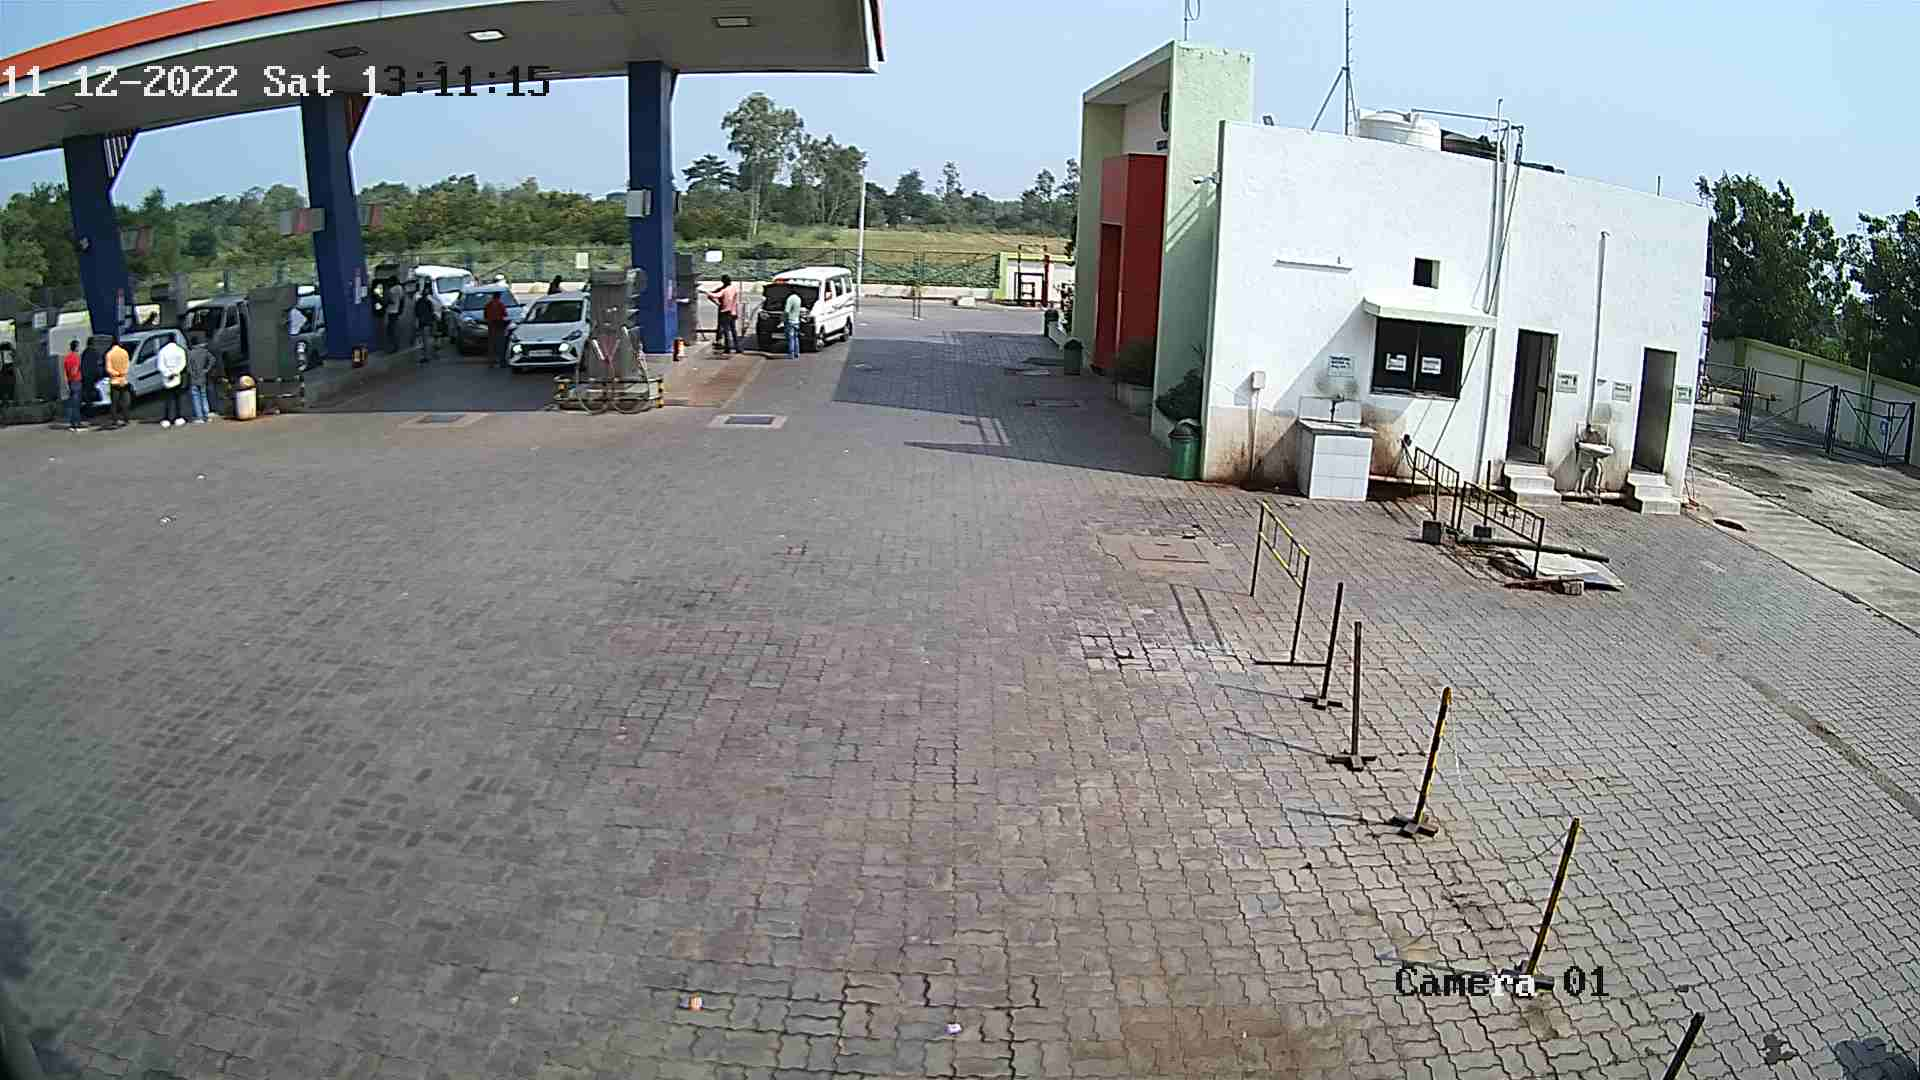Car: (61, 316, 198, 425), (737, 253, 860, 357), (160, 286, 256, 396), (496, 281, 601, 380), (434, 278, 527, 349), (398, 258, 477, 338), (282, 280, 342, 382)
